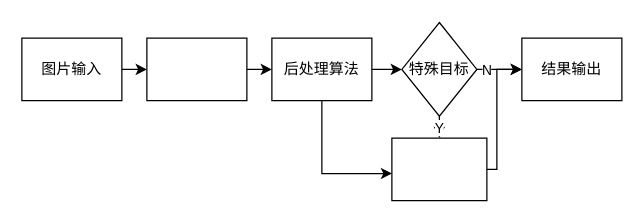
Some shapes in this 644 by 223 pixel diagram are drawn without their labels. Here are the shapes that lost their labels. From the top down, the centre of each, then its label:
[196,69]: 模型推理
[439,169]: 后处理优化
